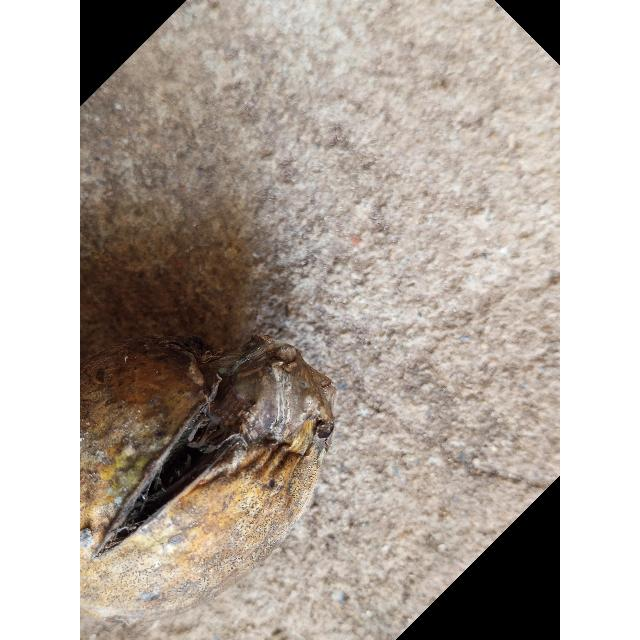damaged: (80, 344, 343, 623)
